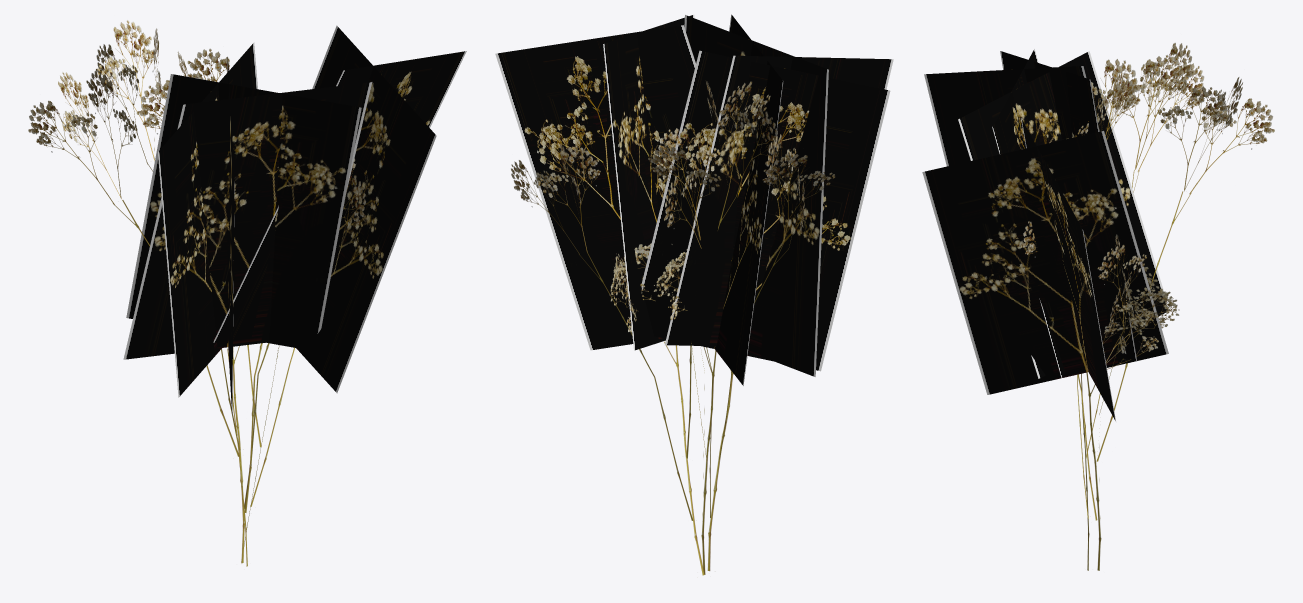
The model's file is babysBreath1.glb.
3 renders of one model, left to right at view 1: azimuth 30°, elevation 25°; view 2: azimuth 150°, elevation 25°; view 3: azimuth 270°, elevation 25°, orthographic. The views are drawn at different scales.
Visible parts, largest first — view 1: Plane.021, Plane.002, Plane.000, Plane.001, Plane.005, Plane.011, Plane.029, Plane.020, Plane.027, Plane.028, Plane.012, Plane.019 (+2 smaller); view 2: Plane.005, Plane.001, Plane.021, Plane.020, Plane.000, Plane.002, Plane.015, Plane.028, Plane.010, Plane.011, Plane.018, Plane.019 (+6 smaller); view 3: Plane.000, Plane.002, Plane.020, Plane.005, Plane.001, Plane.021, Plane.012, Plane.010, Plane.008, Plane.027, Plane.028, Plane.018 (+5 smaller).
Boxes of the visible parts, x1,y1,x2,y2 form: Plane.021: (123, 82, 372, 359); Plane.002: (126, 74, 361, 349); Plane.000: (296, 25, 436, 393); Plane.001: (158, 42, 257, 397); Plane.005: (213, 51, 466, 342); Plane.011: (97, 20, 154, 160); Plane.029: (28, 100, 114, 205); Plane.020: (227, 57, 234, 415); Plane.027: (86, 70, 137, 198); Plane.028: (58, 72, 121, 199); Plane.012: (96, 44, 147, 164); Plane.019: (136, 80, 169, 134); Plane.005: (495, 25, 695, 350); Plane.001: (630, 50, 890, 371); Plane.021: (684, 15, 828, 376); Plane.020: (665, 55, 893, 346); Plane.000: (603, 14, 694, 350); Plane.002: (714, 14, 783, 385); Plane.015: (538, 146, 600, 252); Plane.028: (762, 154, 835, 241); Plane.010: (653, 128, 720, 239); Plane.011: (648, 145, 721, 240); Plane.018: (717, 81, 770, 191); Plane.019: (732, 106, 781, 195); Plane.000: (922, 131, 1168, 394); Plane.002: (958, 51, 1169, 378); Plane.020: (924, 66, 1099, 166); Plane.005: (1021, 118, 1115, 421); Plane.001: (1000, 51, 1136, 360); Plane.021: (992, 49, 1065, 378); Plane.012: (1189, 98, 1274, 194); Plane.010: (1158, 86, 1229, 190); Plane.008: (1106, 287, 1179, 369); Plane.027: (1111, 55, 1186, 168); Plane.028: (1135, 43, 1193, 169); Plane.018: (1091, 59, 1142, 135).
Size of the model in its own units: 276 by 362 by 236.
5 materials, 5 textured.
